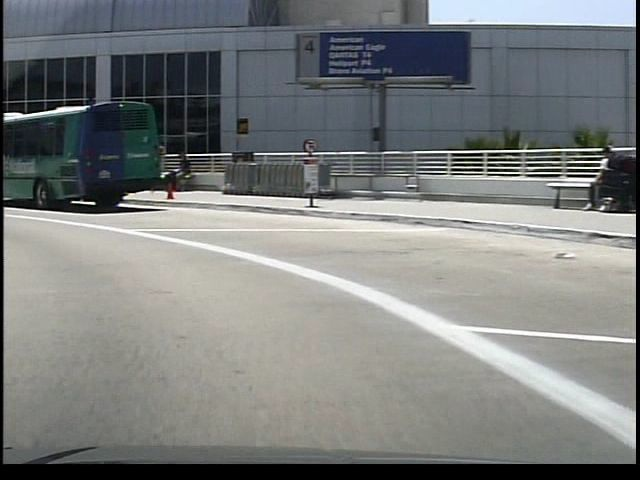person: (163, 147, 192, 194)
